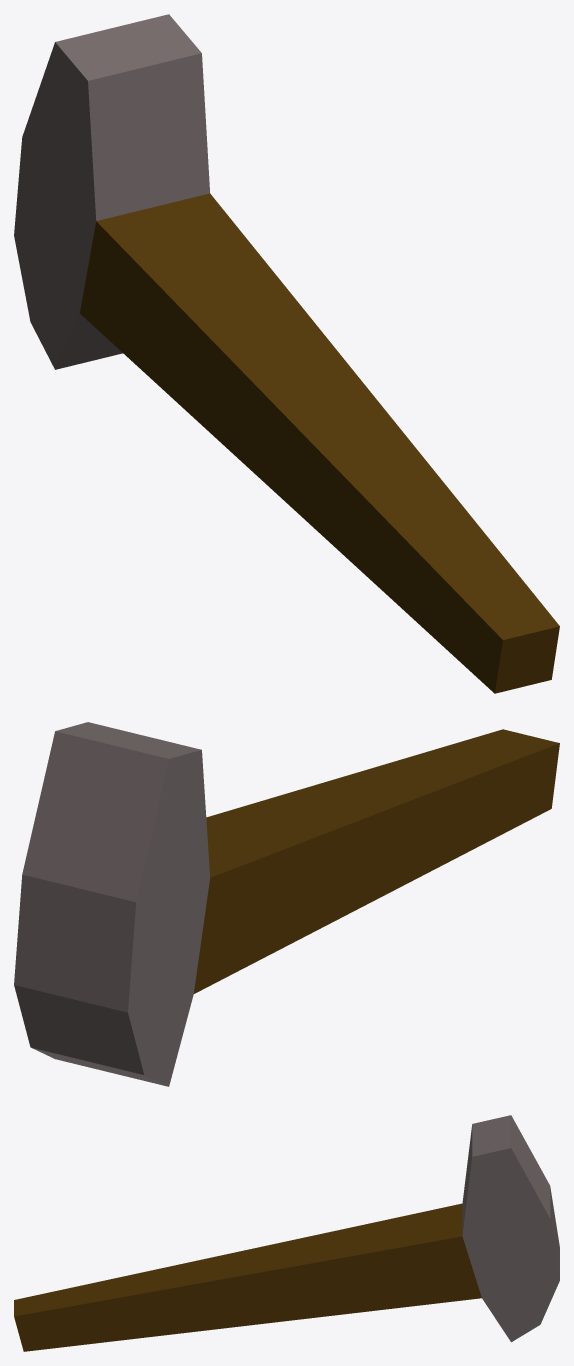
File: npc_world_wayne_7.obj
3 renders of one model, top to bottom at view 1: azimuth 30°, elevation 25°; view 2: azimuth 150°, elevation 25°; view 3: azimuth 270°, elevation 25°, orthographic. The views are drawn at different scales.
Size of the model in its own units: 0.0625 by 0.1875 by 0.4375.
